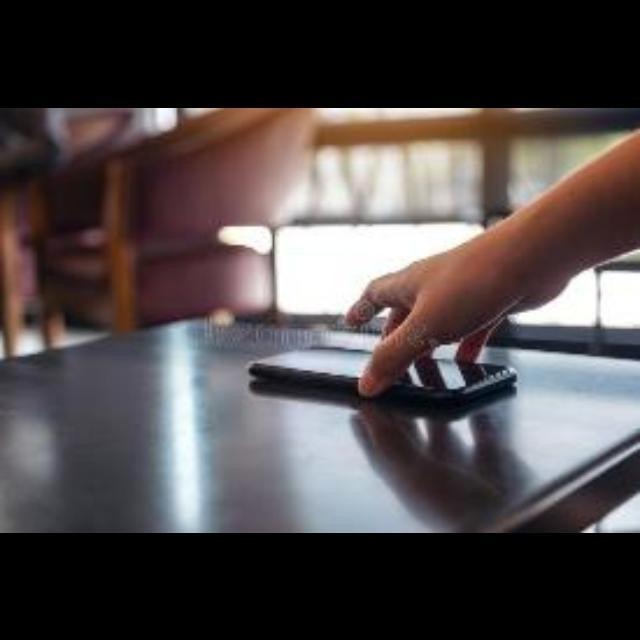PhoneUse: (248, 347, 516, 407)
